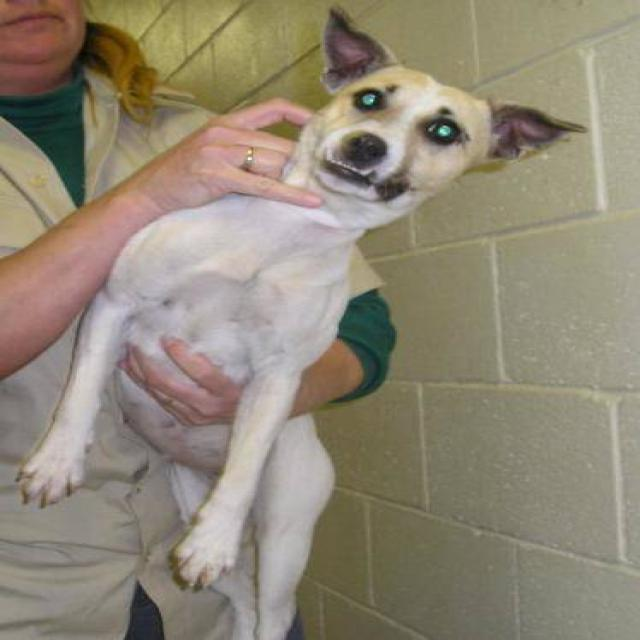dog: (14, 5, 587, 639)
